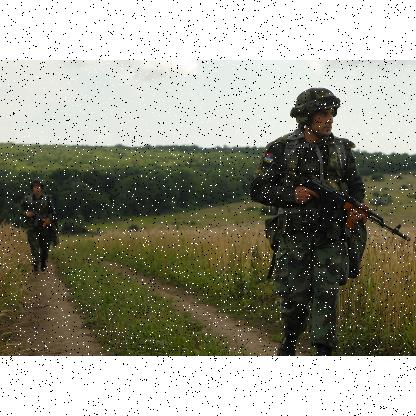gun: (254, 155, 402, 267)
